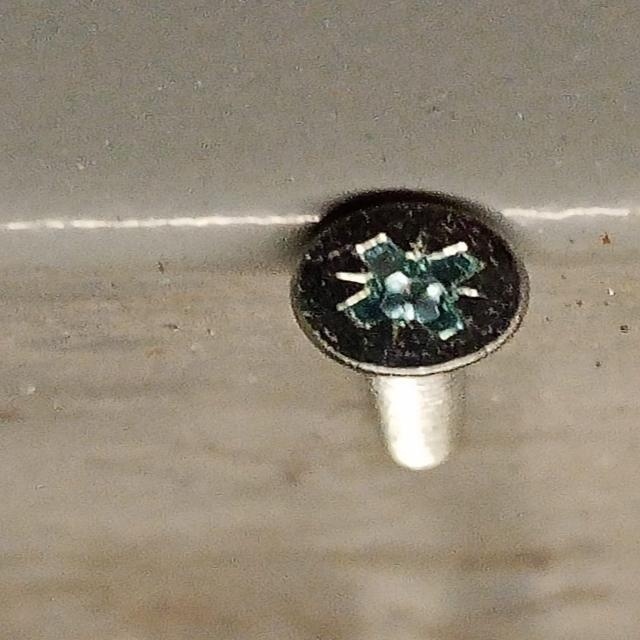pozidriv: (289, 193, 531, 378)
